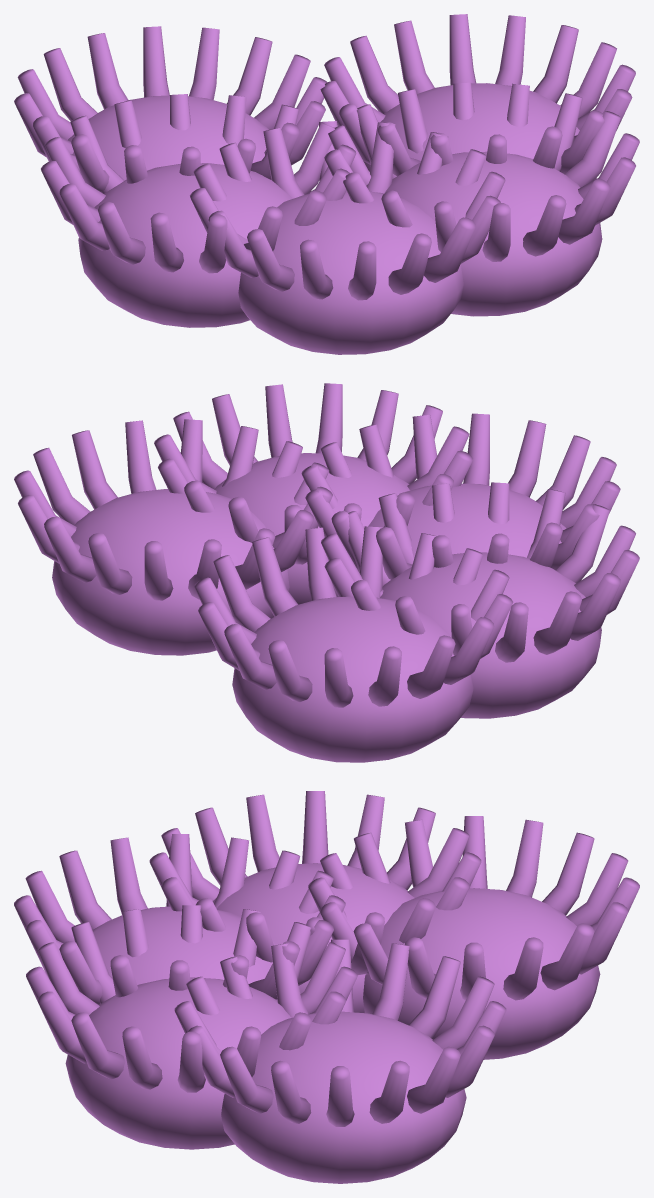
File: underwater-reef-worlds-anemone-carpet-80a65be6__7021.glb
3 views of the same model, one above another, from view 1: azimuth 30°, elevation 25°; view 2: azimuth 150°, elevation 25°; view 3: azimuth 270°, elevation 25° (orthographic). The views are drawn at different scales.
Visible parts, largest first — view 1: anemone-carpet; view 2: anemone-carpet; view 3: anemone-carpet.
Boxes of the visible parts, box(x1,y1,x2,y2) form: anemone-carpet: box(14, 14, 639, 354); anemone-carpet: box(14, 383, 639, 762); anemone-carpet: box(14, 791, 639, 1183).
Size of the model in its own units: 1.08 by 0.2861 by 0.9923.
